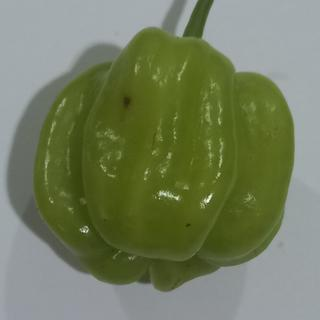Fly-bites: (180, 215, 195, 234), (118, 93, 132, 111)
